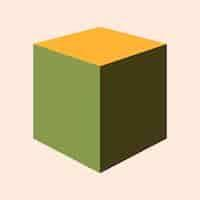cube: (33, 27, 168, 172)
